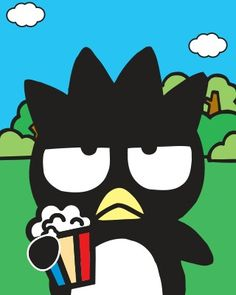batsumaru: (22, 46, 214, 295)
